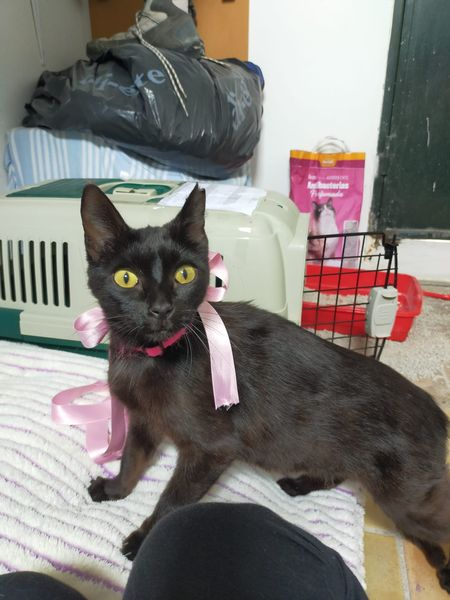cat: (62, 163, 446, 572)
